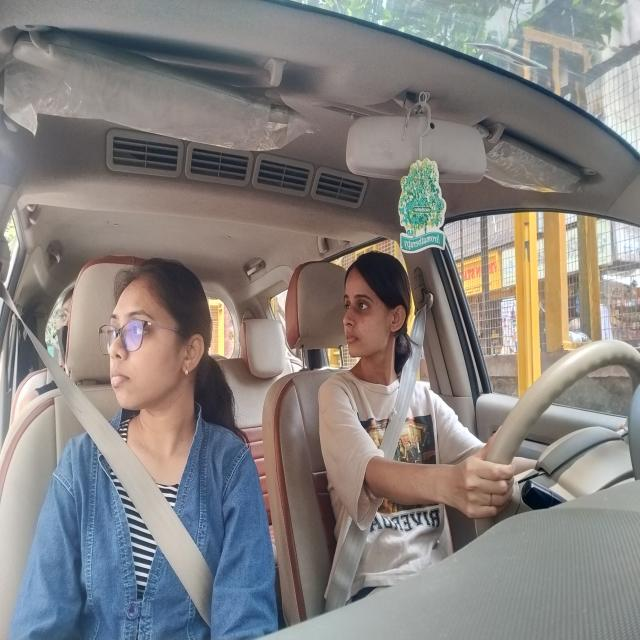person: (107, 268, 207, 411), (335, 258, 408, 368)
